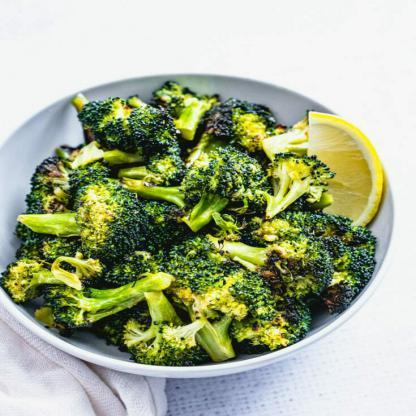broccoli: (0, 80, 375, 368)
